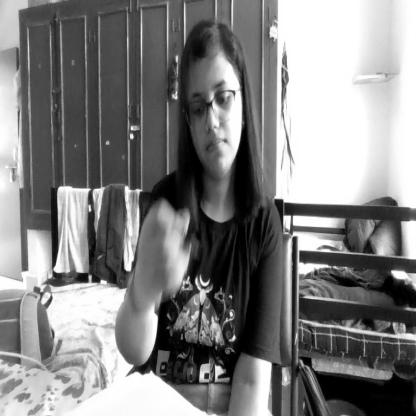Normal: (178, 27, 247, 184)
